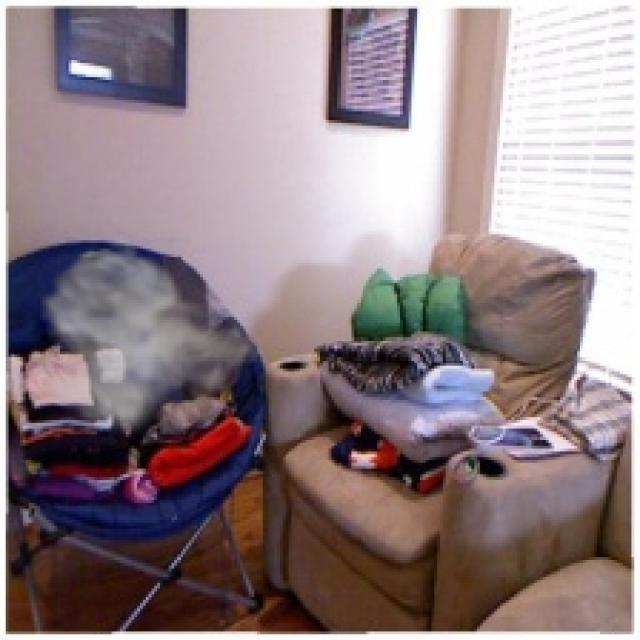Smoke: (20, 232, 269, 439)
